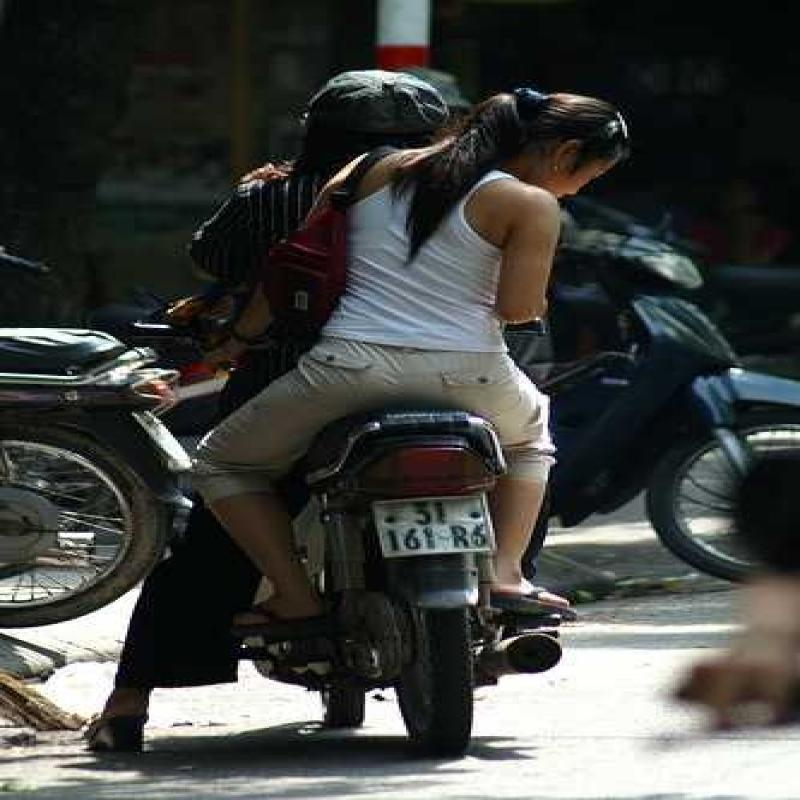bike: (302, 415, 575, 732), (566, 205, 800, 565), (3, 299, 190, 638)
